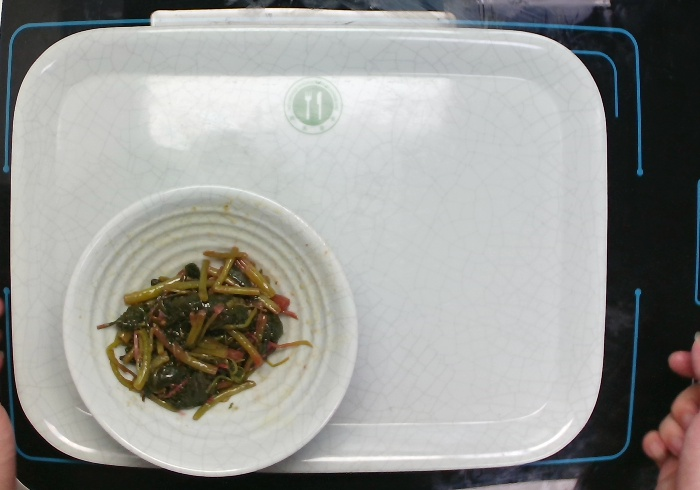JYsf-Xiao_Tang_Wan: (60, 183, 360, 479)
